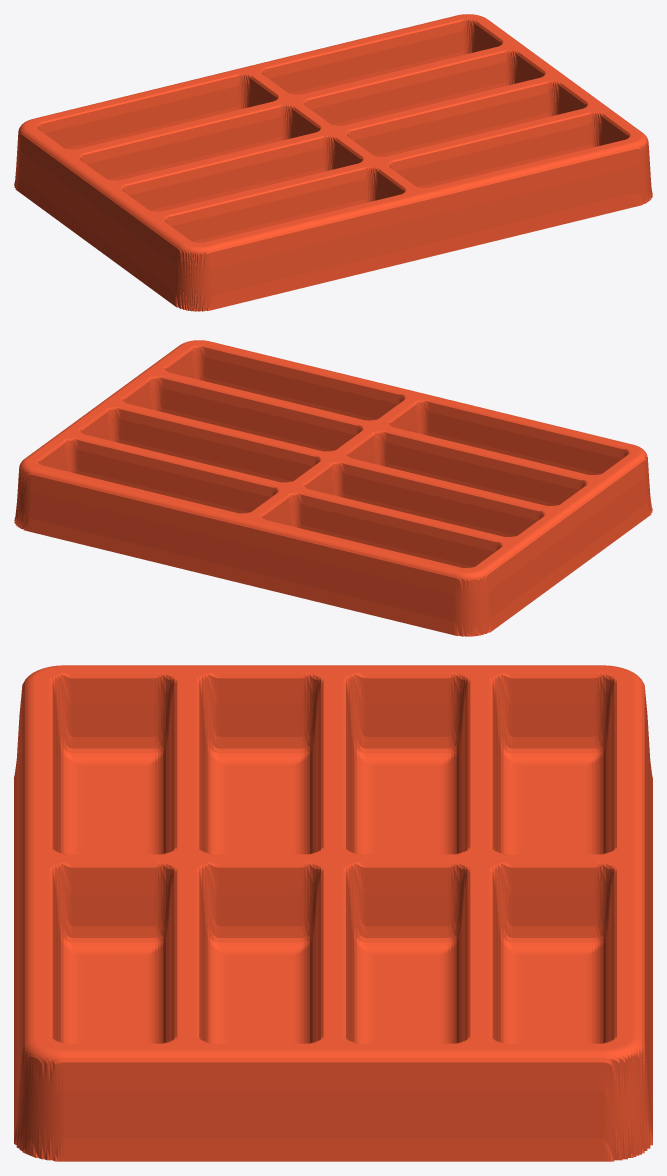
Rendered from mold.glb.
The picture shows the model from 3 angles, top to bottom: view 1: azimuth 30°, elevation 25°; view 2: azimuth 150°, elevation 25°; view 3: azimuth 270°, elevation 25°; orthographic projection. The views are drawn at different scales.
Parts seen in each view (by area): view 1: geometry_0; view 2: geometry_0; view 3: geometry_0.
Boxes of the visible parts, <box> form: geometry_0: <box>14,14,652,311</box>; geometry_0: <box>14,340,652,636</box>; geometry_0: <box>14,665,652,1161</box>.
Size of the model in its own units: 0.1715 by 0.0205 by 0.1155.
